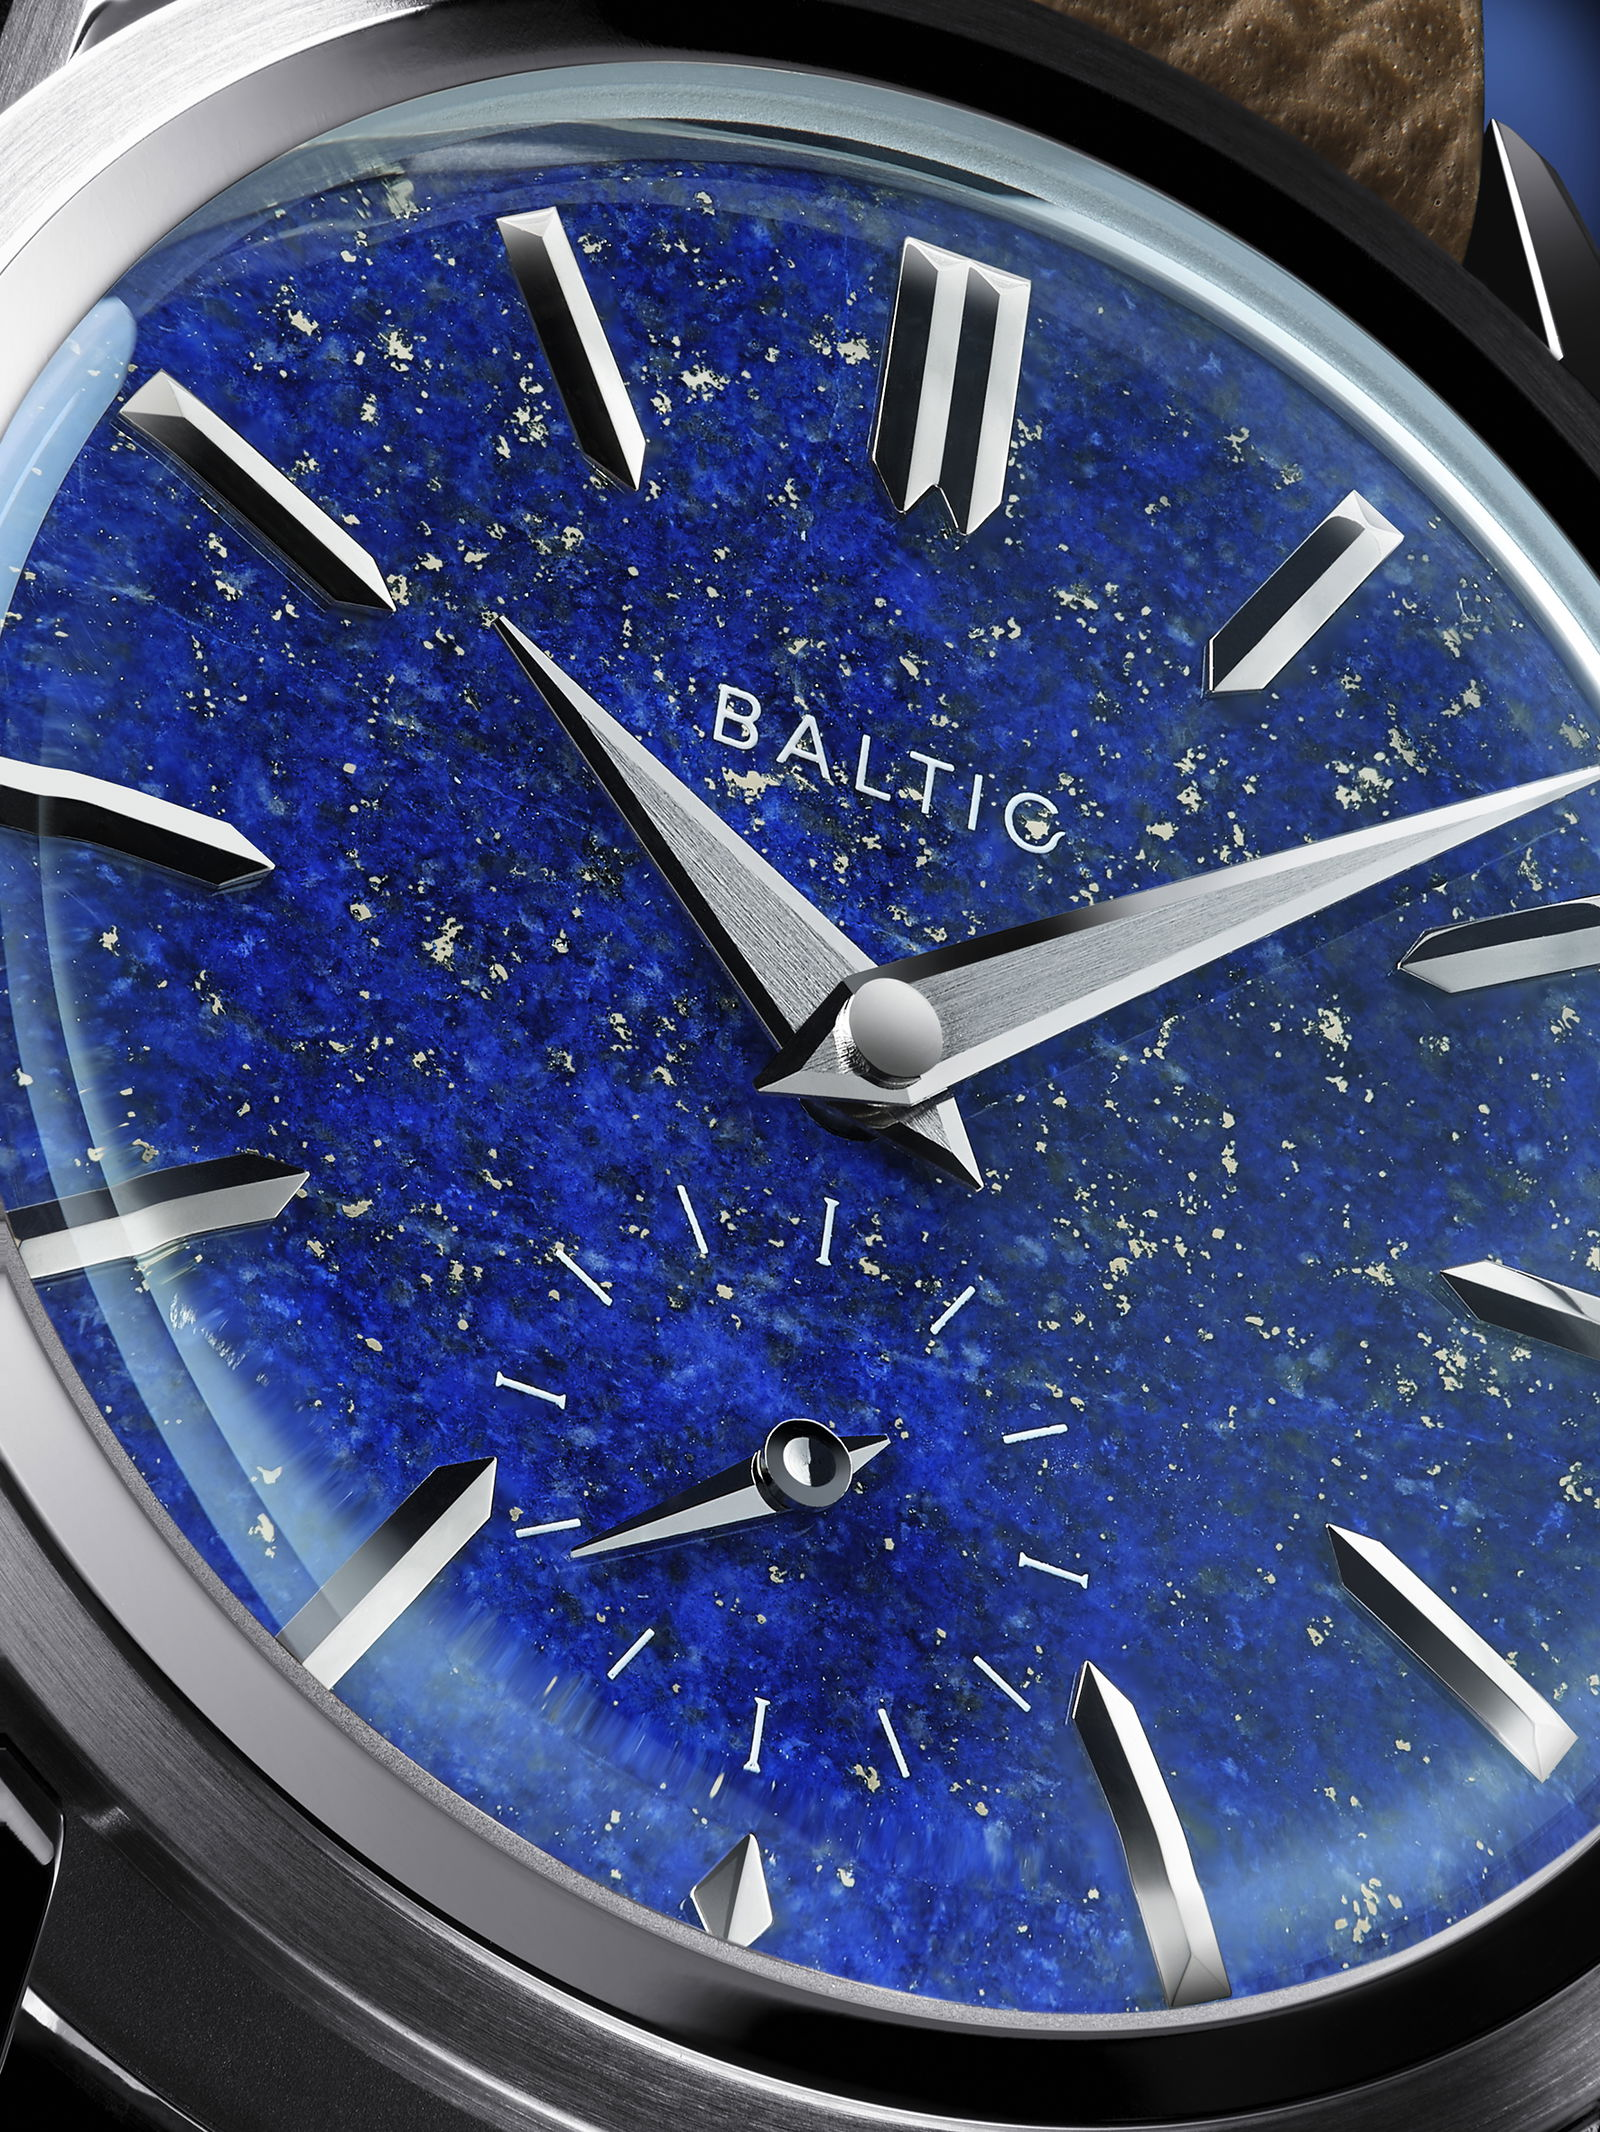Lapis_Lazuli: (20, 153, 1600, 2004)
